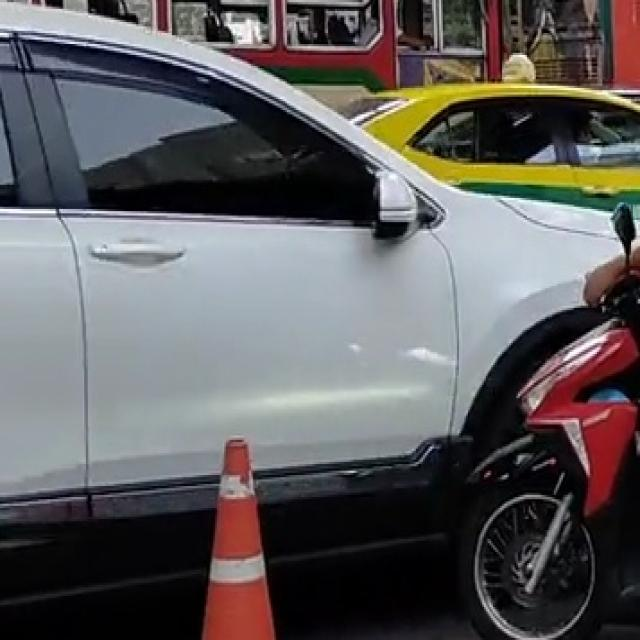door: (0, 28, 459, 526)
helmet: (500, 53, 536, 81)
